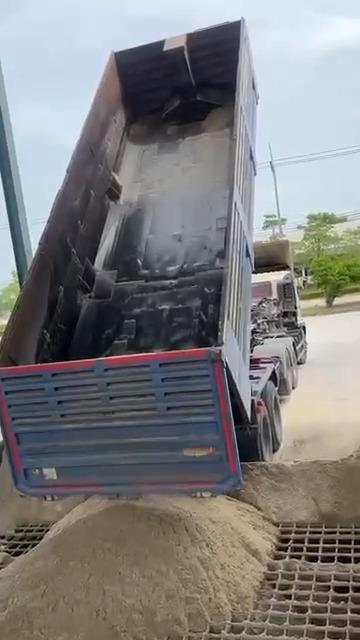sand: (0, 496, 274, 639), (236, 450, 359, 522), (0, 454, 82, 534), (264, 555, 359, 582)
